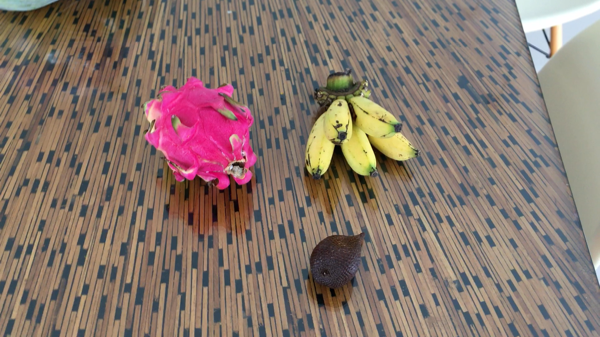banana: (301, 70, 416, 183)
dragon fruit: (144, 78, 260, 191)
snake fruit: (309, 230, 369, 290)
